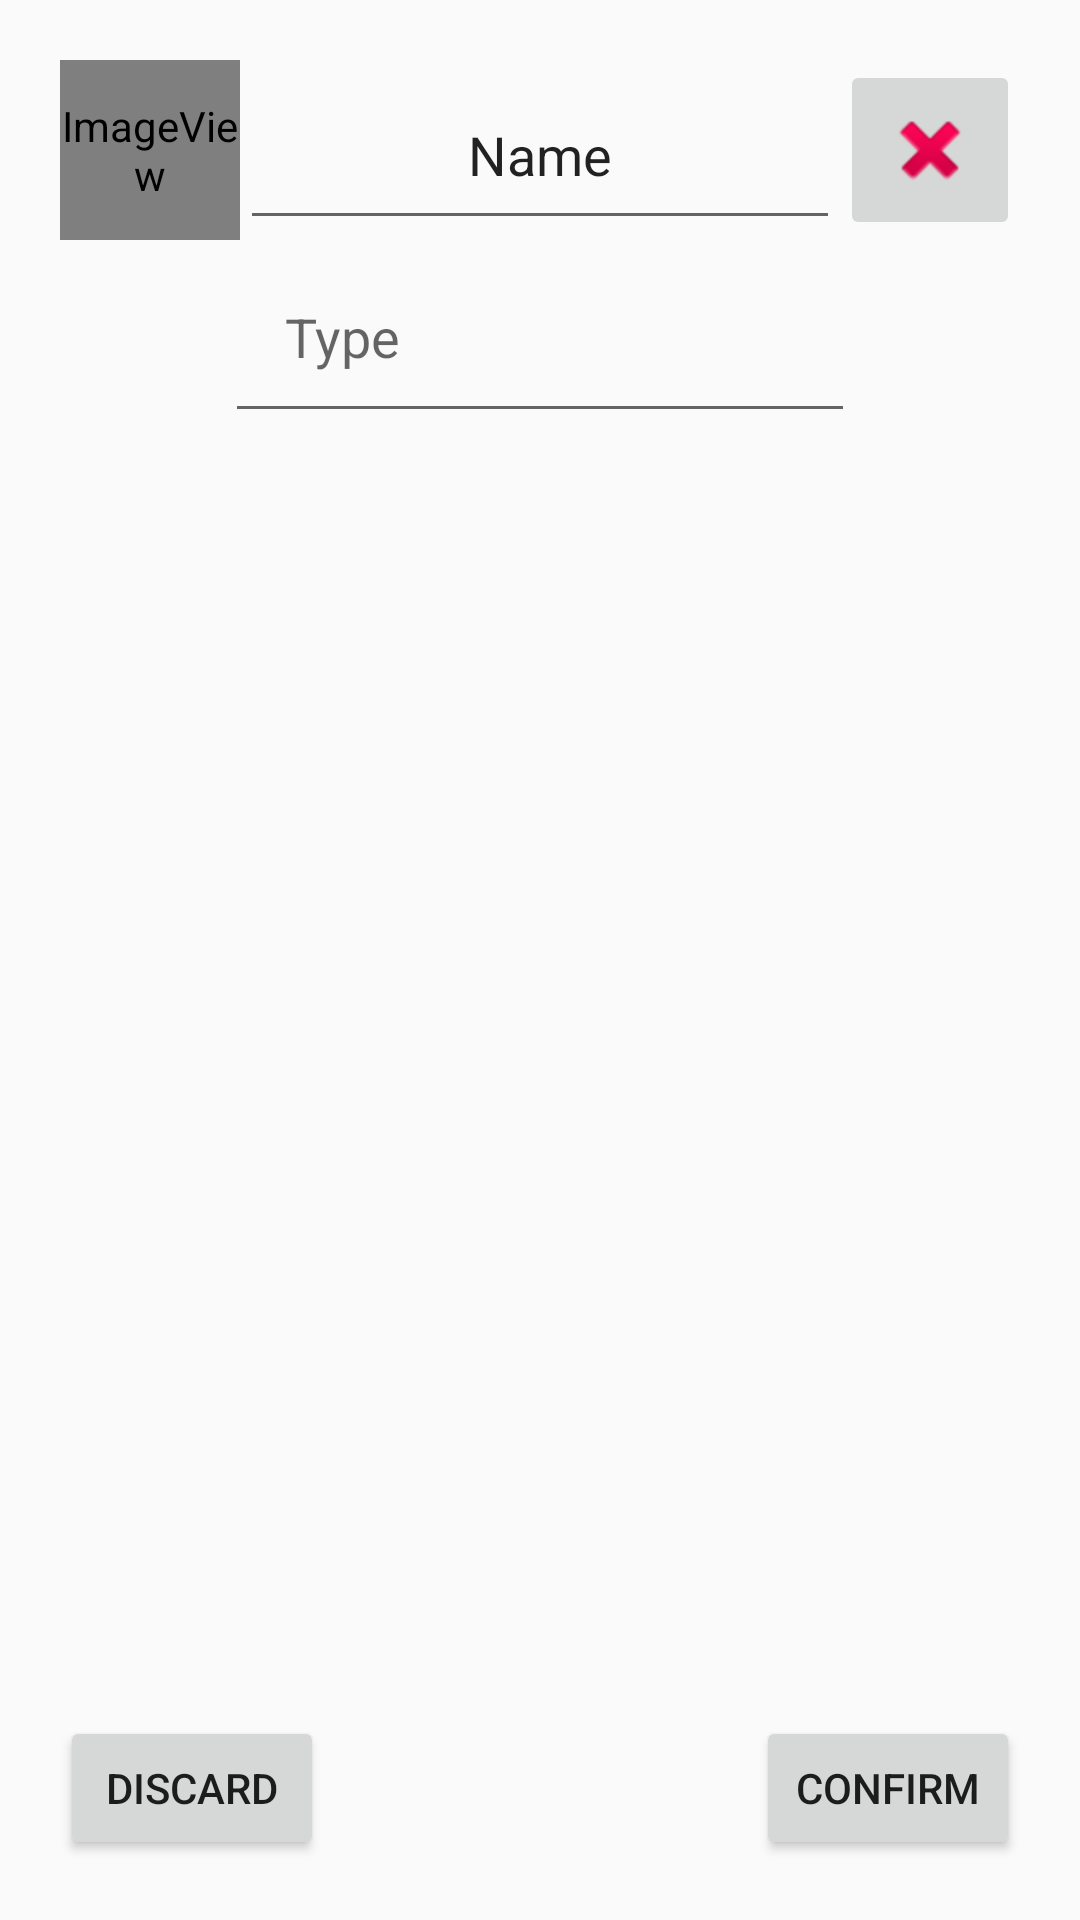

Named icons in this screenshot (1080*1920) and their bounding boxes, (x1, y1, x2, y2):
delete: (852, 78, 1008, 222)
